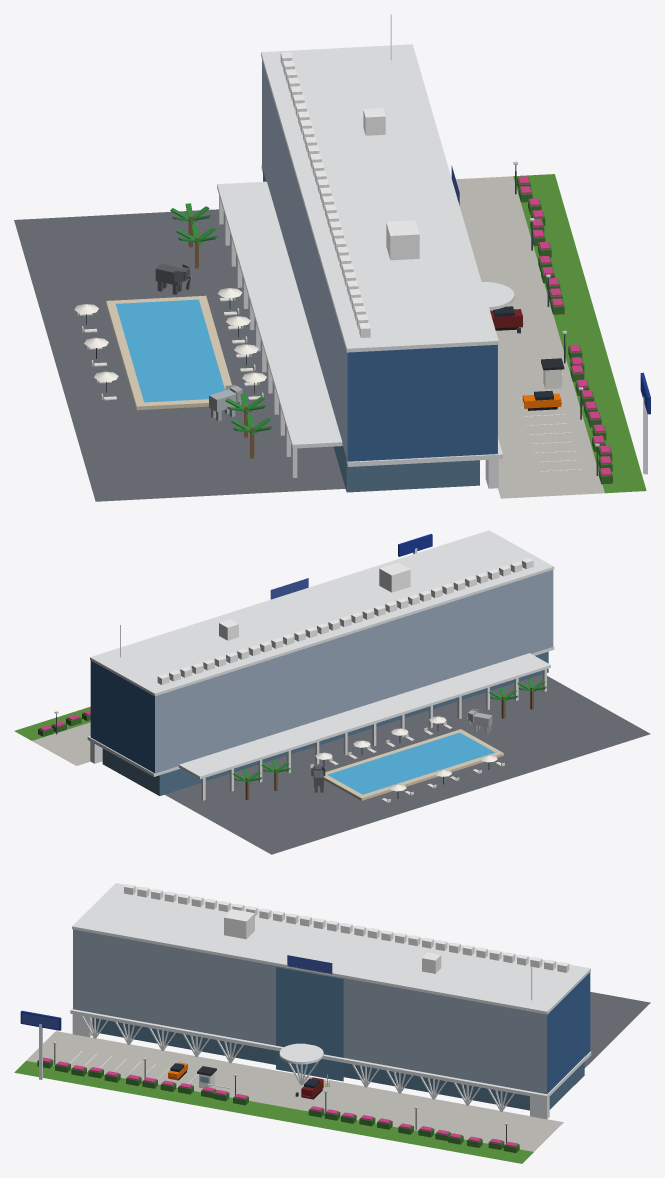
Rendered from pb-rabisson.glb.
3 renders of one model, top to bottom at view 1: azimuth 30°, elevation 25°; view 2: azimuth 150°, elevation 25°; view 3: azimuth 270°, elevation 25°, orthographic. The views are drawn at different scales.
Bounding box in the file's own units: 93.52 × 25.46 × 104.
